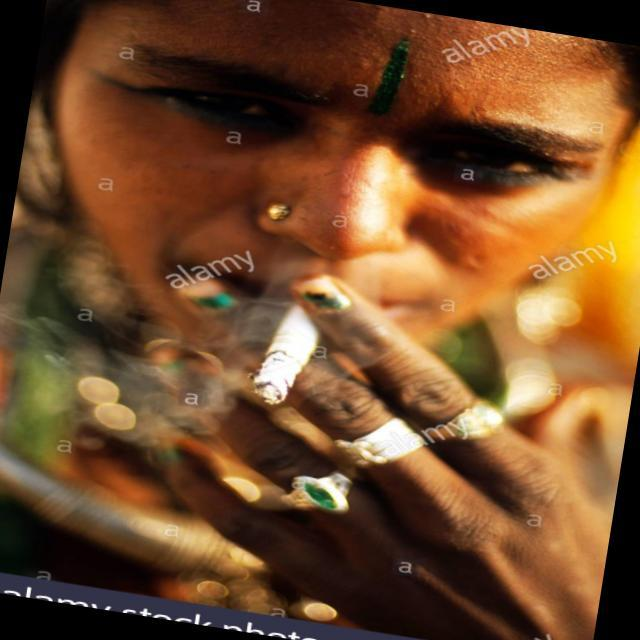cigarette: (252, 289, 320, 423)
